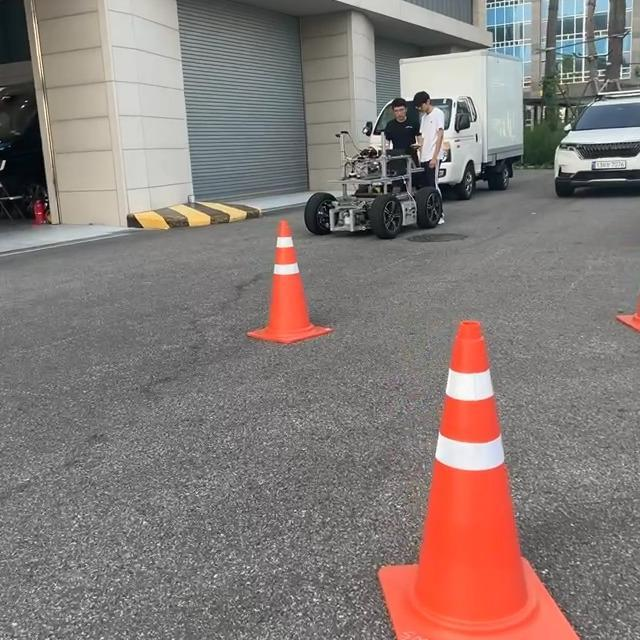fallen_object: (344, 284, 546, 640), (200, 186, 349, 377), (586, 283, 640, 394)
